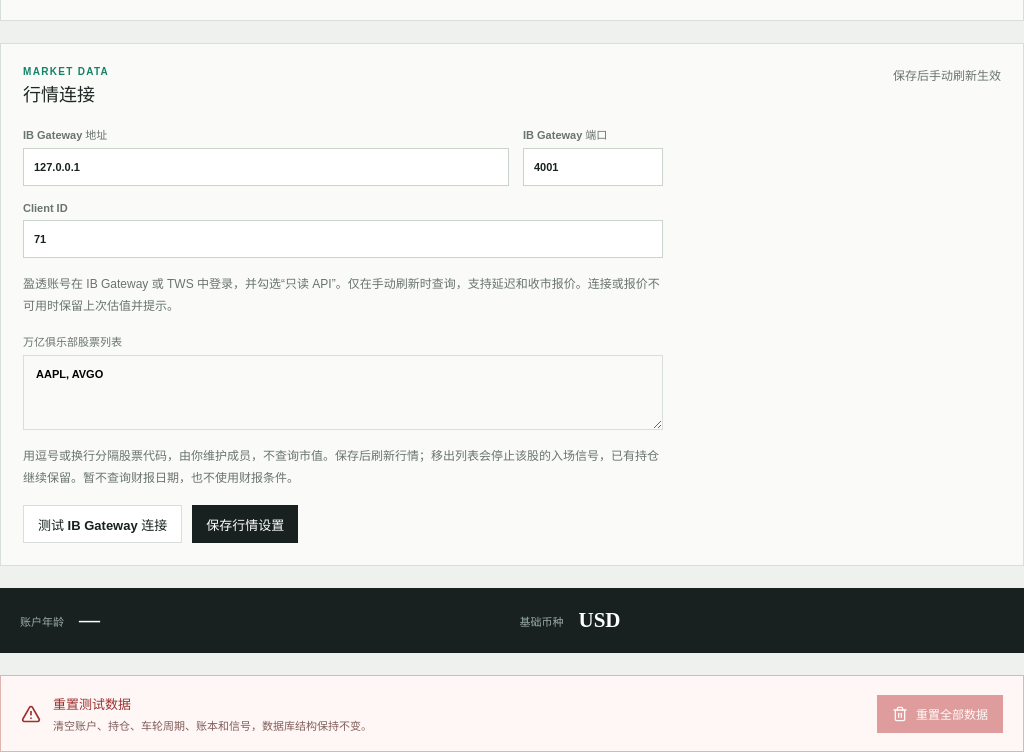
Test: shows the actual VIX and stock quote quality from Gateway diagnostics
(page scrolled)
Click the button "测试 IB Gateway 连接": (103, 524) [23,505,182,543]
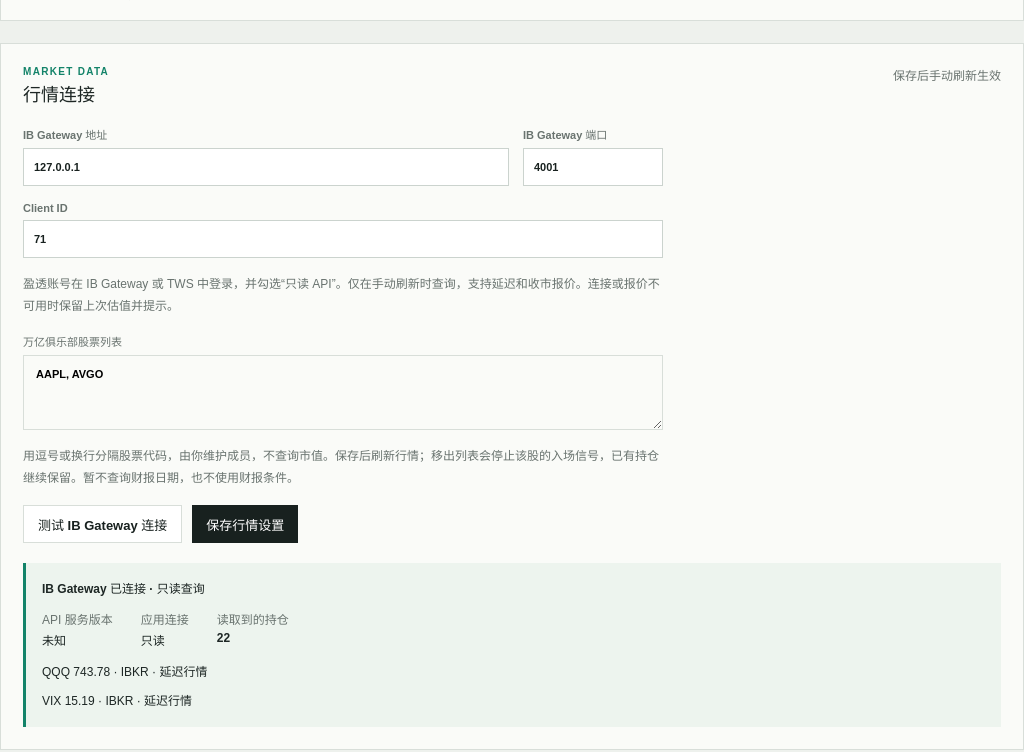
Result: the text "VIX 15.19 · IBKR · 延迟行情" is shown at [42,694,192,708]
Result: the text "QQQ 743.78 · IBKR · 延迟行情" is shown at [42,665,207,679]
